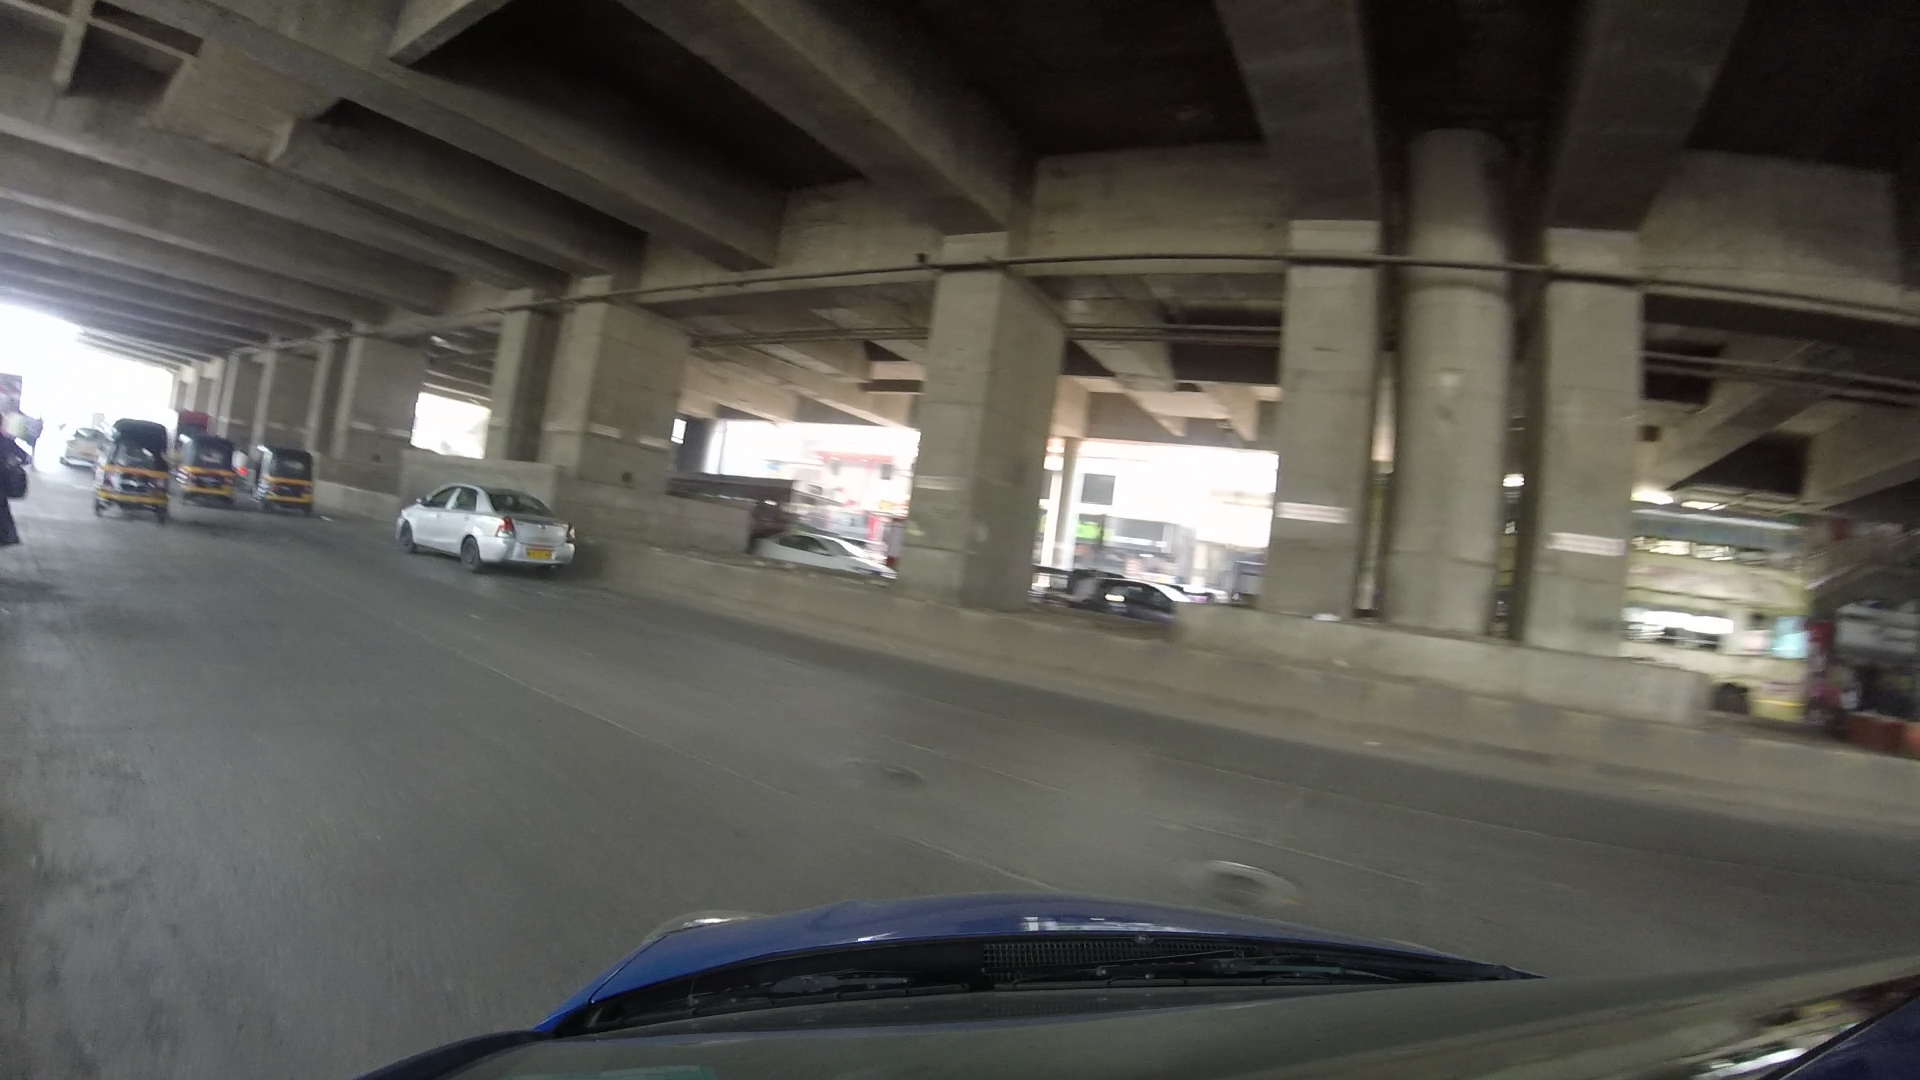car: (386, 473, 589, 578)
rickshaw: (92, 417, 167, 517), (233, 447, 322, 506), (182, 433, 232, 501)
